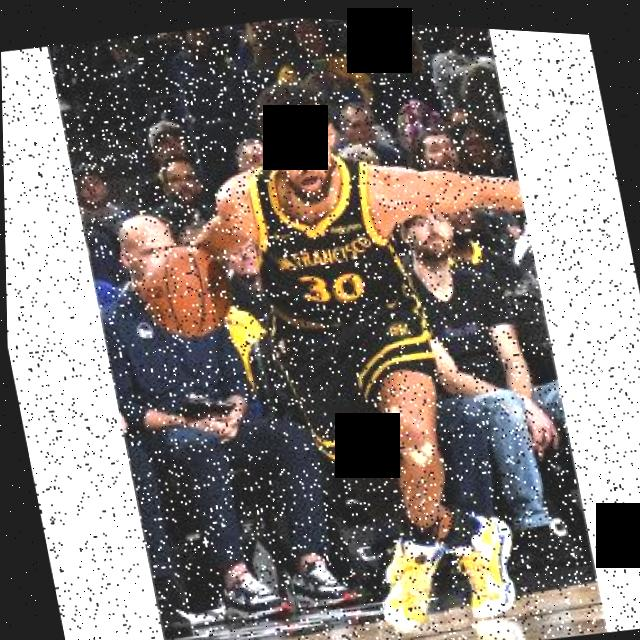shoe: (366, 518, 454, 633), (440, 500, 523, 620), (212, 557, 287, 625), (283, 545, 356, 609)
